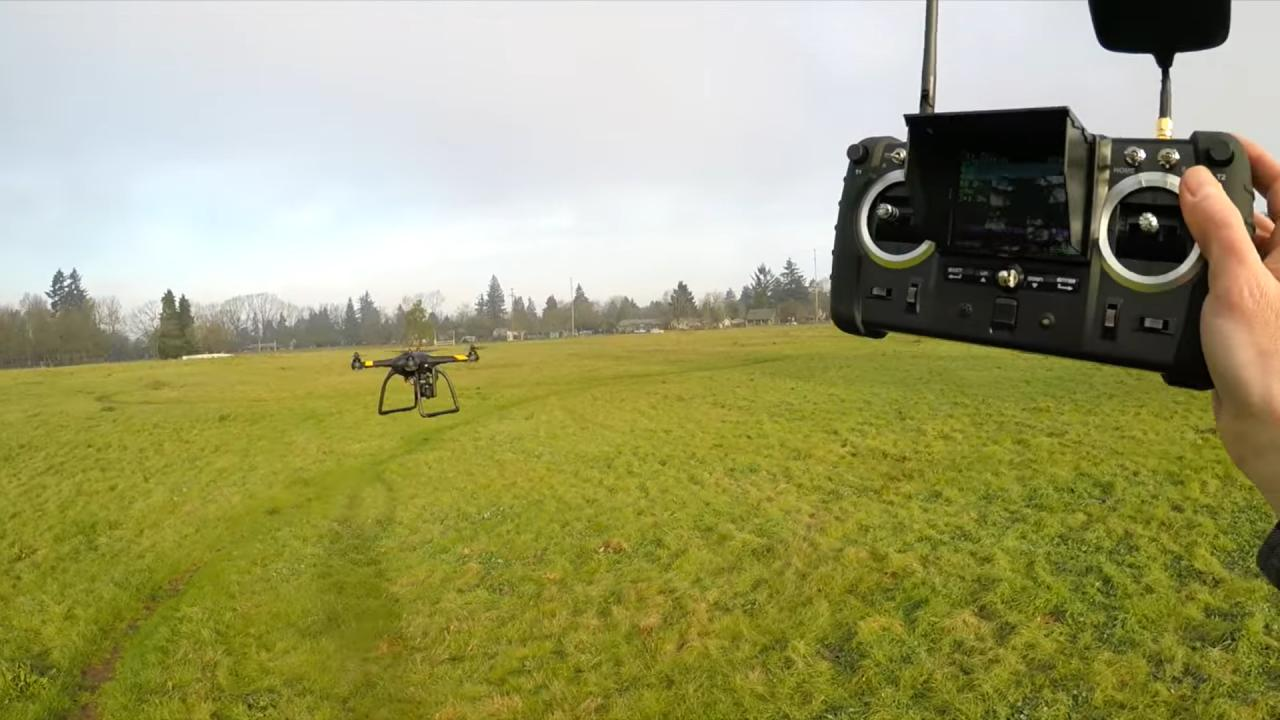Drone: (336, 332, 506, 430)
